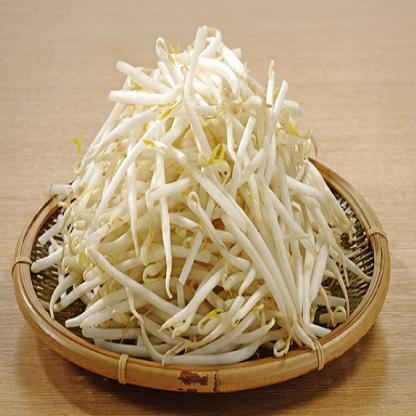bean sprouts: (80, 61, 350, 342)
